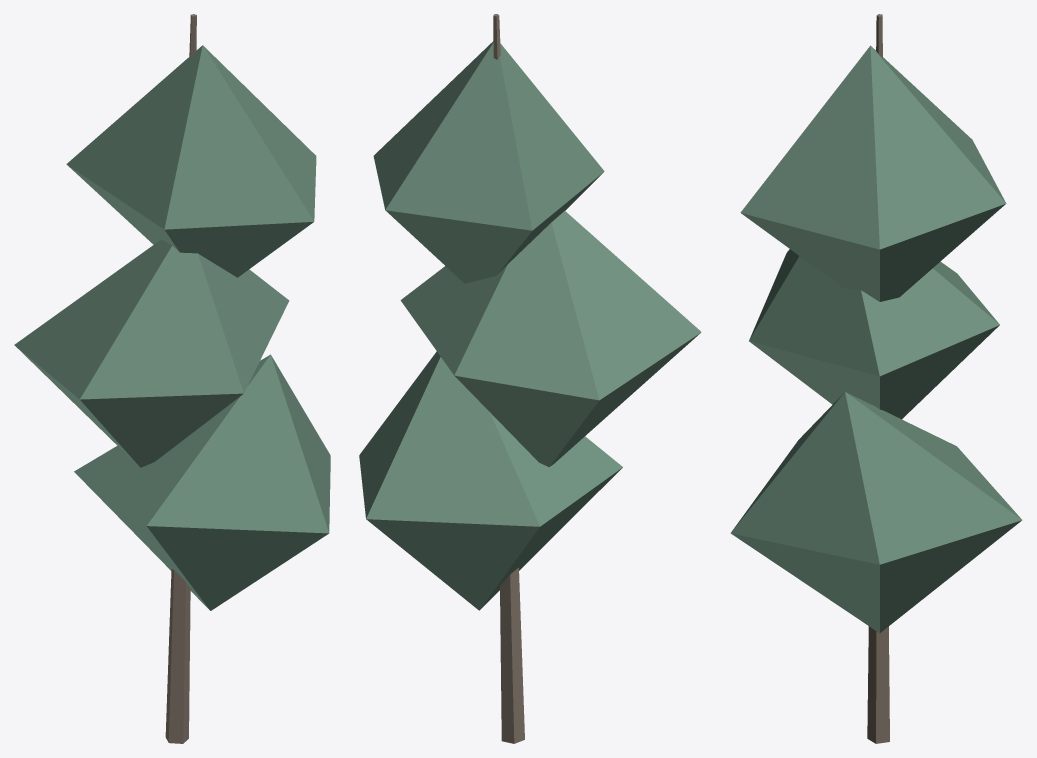
3 views of the same model, side by side, from view 1: azimuth 30°, elevation 25°; view 2: azimuth 150°, elevation 25°; view 3: azimuth 270°, elevation 25° (orthographic).
Bounding box in the file's own units: 2.64 × 6.12 × 2.21.
